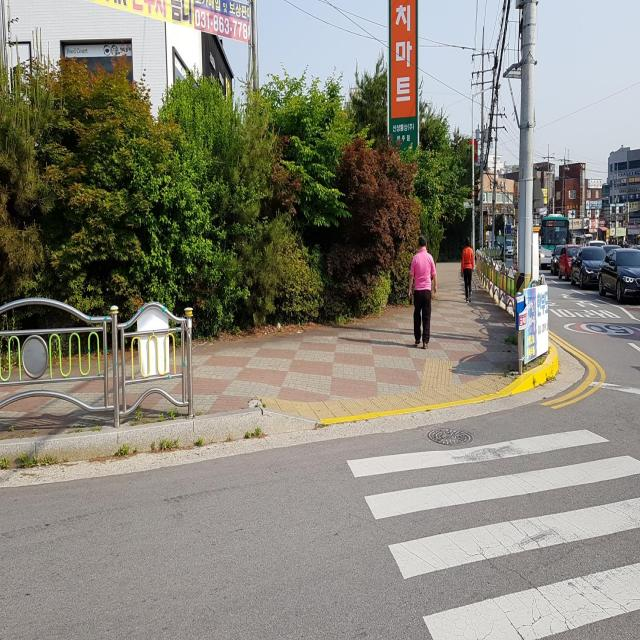횡단보도: (346, 426, 640, 640)
